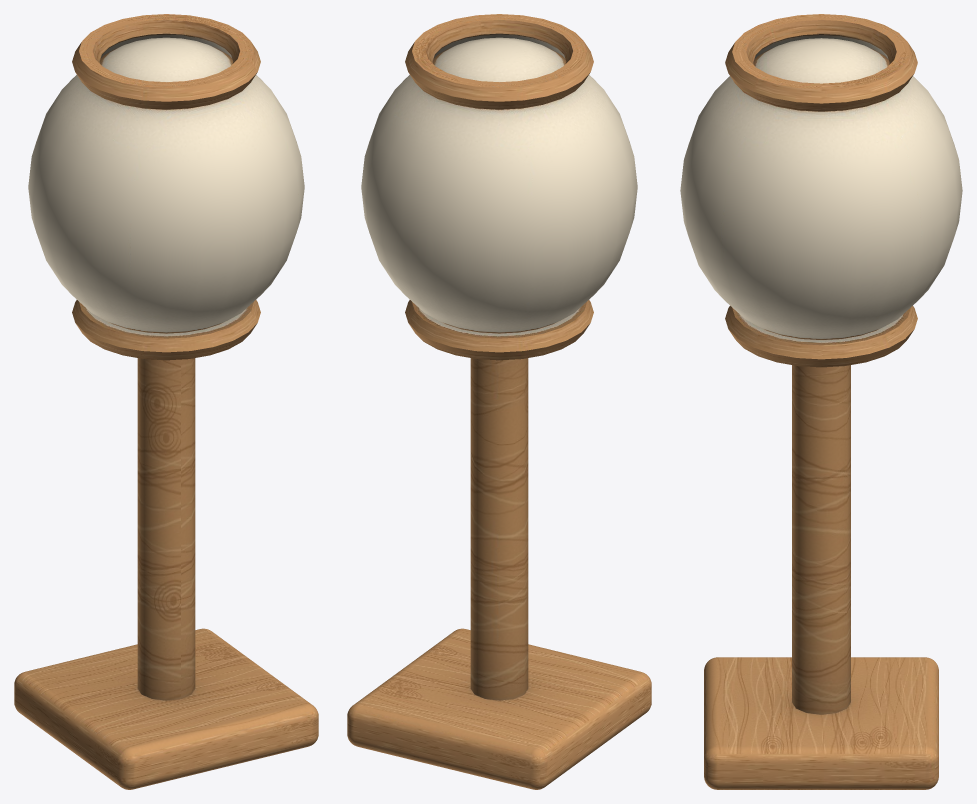
File: garden_lantern.glb
The picture shows the model from 3 angles, left to right: view 1: azimuth 30°, elevation 25°; view 2: azimuth 150°, elevation 25°; view 3: azimuth 270°, elevation 25°; orthographic projection. The views are drawn at different scales.
Parts seen in each view (by area): view 1: garden_lantern; view 2: garden_lantern; view 3: garden_lantern.
Boxes of the visible parts, x1=… form: garden_lantern: x1=14, y1=14, x2=318, y2=789; garden_lantern: x1=347, y1=14, x2=651, y2=789; garden_lantern: x1=680, y1=14, x2=962, y2=789.
Bounding box in the file's own units: 0.24 × 0.652 × 0.24.
Materials: 1 (1 with a texture image).
